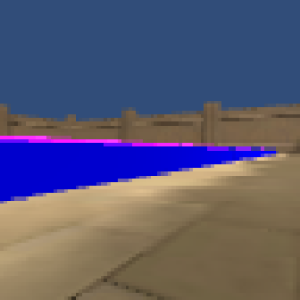platform: (2, 147, 267, 203)
ramp: (1, 134, 197, 148)
